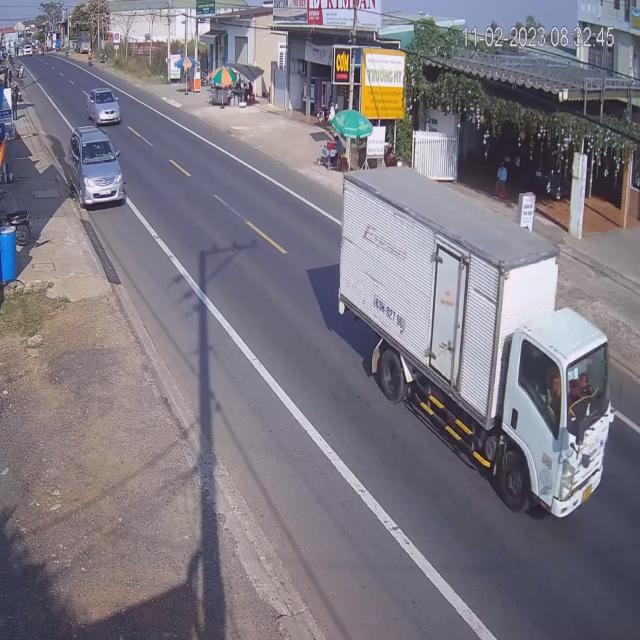car: (67, 125, 125, 209), (86, 86, 120, 128)
truck: (335, 171, 613, 529)
